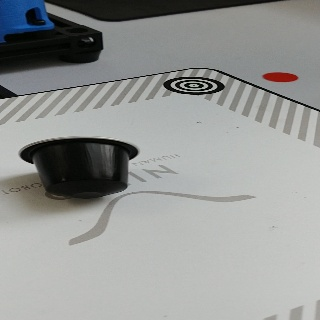capsule_10: (17, 134, 141, 199)
